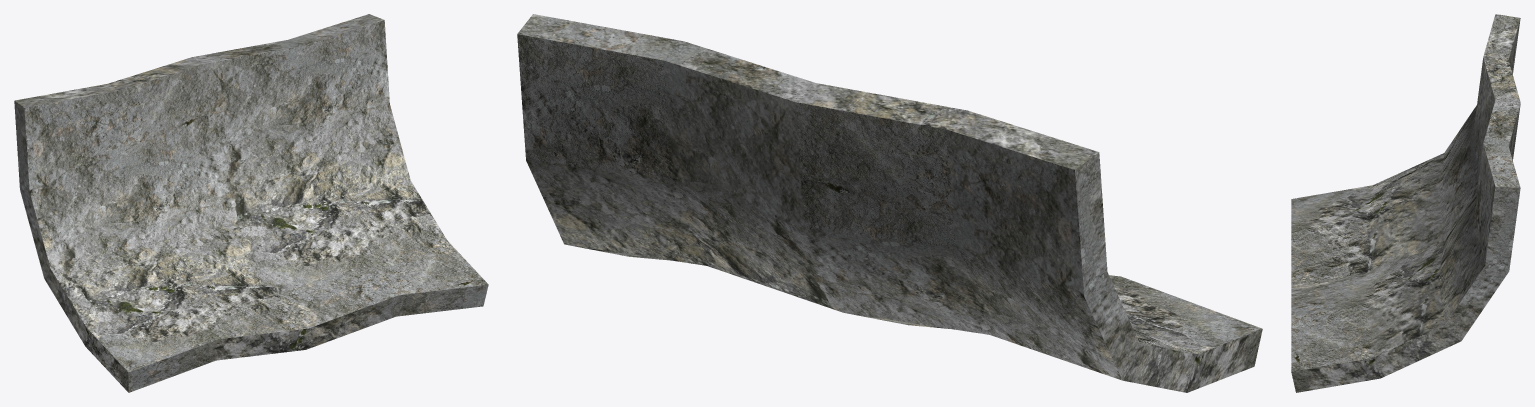
File: UWBorderIn.fbx
3 views of the same model, side by side, from view 1: azimuth 30°, elevation 25°; view 2: azimuth 150°, elevation 25°; view 3: azimuth 270°, elevation 25° (orthographic). The views are drawn at different scales.
Visible parts, largest first — view 1: UWBorderIn; view 2: UWBorderIn; view 3: UWBorderIn.
Boxes of the visible parts, x1,y1,x2,y2 form: UWBorderIn: [14, 14, 488, 392]; UWBorderIn: [517, 14, 1262, 392]; UWBorderIn: [1291, 14, 1520, 392].
Size of the model in its own units: 800 by 449 by 450.
